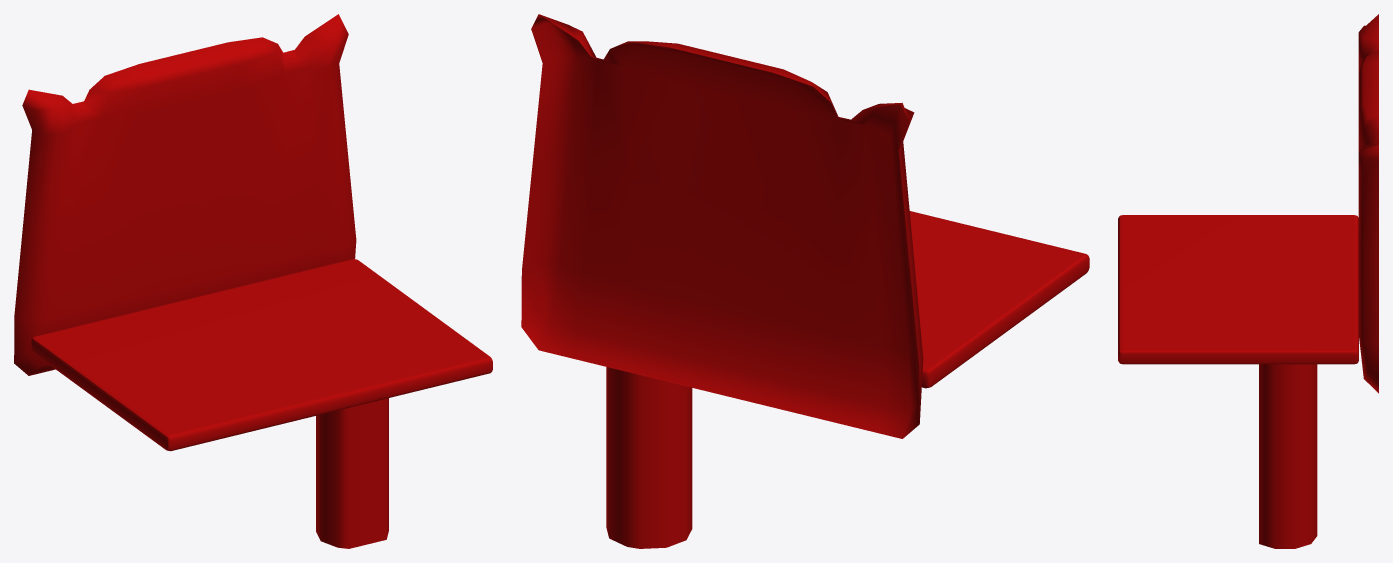
File: SM_ObstacleCourse.fbx
The picture shows the model from 3 angles, left to right: view 1: azimuth 30°, elevation 25°; view 2: azimuth 150°, elevation 25°; view 3: azimuth 270°, elevation 25°; orthographic projection. The views are drawn at different scales.
Parts seen in each view (by area): view 1: SM_ObstacleCourse; view 2: SM_ObstacleCourse; view 3: SM_ObstacleCourse.
Part boxes in pixels (<box>): SM_ObstacleCourse: <box>14,14,492,548</box>; SM_ObstacleCourse: <box>521,14,1089,548</box>; SM_ObstacleCourse: <box>1118,14,1378,548</box>.
Bounding box in the file's own units: 50.13 × 66.38 × 38.48.
